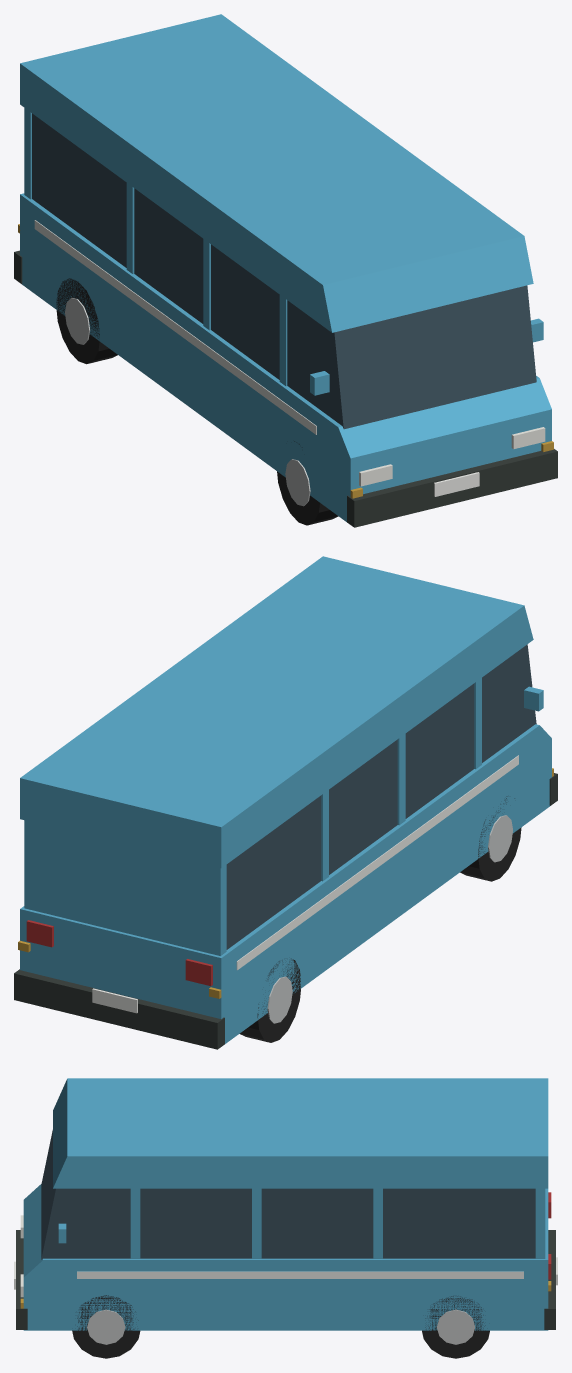
The model's file is minibus.glb.
3 renders of one model, top to bottom at view 1: azimuth 30°, elevation 25°; view 2: azimuth 150°, elevation 25°; view 3: azimuth 270°, elevation 25°, orthographic. The views are drawn at different scales.
Parts seen in each view (by area): view 1: body, glass, trim, headlight; view 2: body, glass, trim, brake_light; view 3: body, glass, trim.
Boxes of the visible parts, bbox=[...] form: body: bbox=[20, 14, 551, 521]; glass: bbox=[32, 113, 536, 429]; trim: bbox=[14, 220, 557, 527]; headlight: bbox=[359, 427, 545, 486]; body: bbox=[20, 556, 551, 1043]; glass: bbox=[226, 644, 536, 949]; trim: bbox=[14, 755, 557, 1049]; brake_light: bbox=[26, 920, 212, 986]; body: bbox=[23, 1078, 548, 1330]; glass: bbox=[41, 1130, 535, 1259]; trim: bbox=[14, 1230, 557, 1358].
Bounding box in the file's own units: 2.16 × 2.3 × 5.6.
